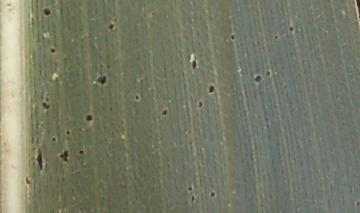tarspot: (36, 147, 43, 171), (95, 73, 107, 84), (59, 150, 69, 161), (252, 73, 262, 83), (42, 7, 52, 16), (206, 83, 215, 93), (40, 102, 50, 110), (190, 59, 197, 70), (160, 108, 168, 116), (85, 113, 92, 122), (229, 33, 236, 42), (107, 22, 114, 30), (189, 194, 196, 202), (208, 191, 216, 198), (25, 176, 31, 185), (64, 129, 71, 136), (133, 93, 139, 101), (197, 100, 203, 108), (49, 47, 56, 53), (50, 136, 57, 142), (78, 148, 84, 155), (265, 70, 271, 77), (274, 33, 278, 41), (187, 185, 192, 191), (289, 26, 293, 33), (356, 201, 360, 207)
